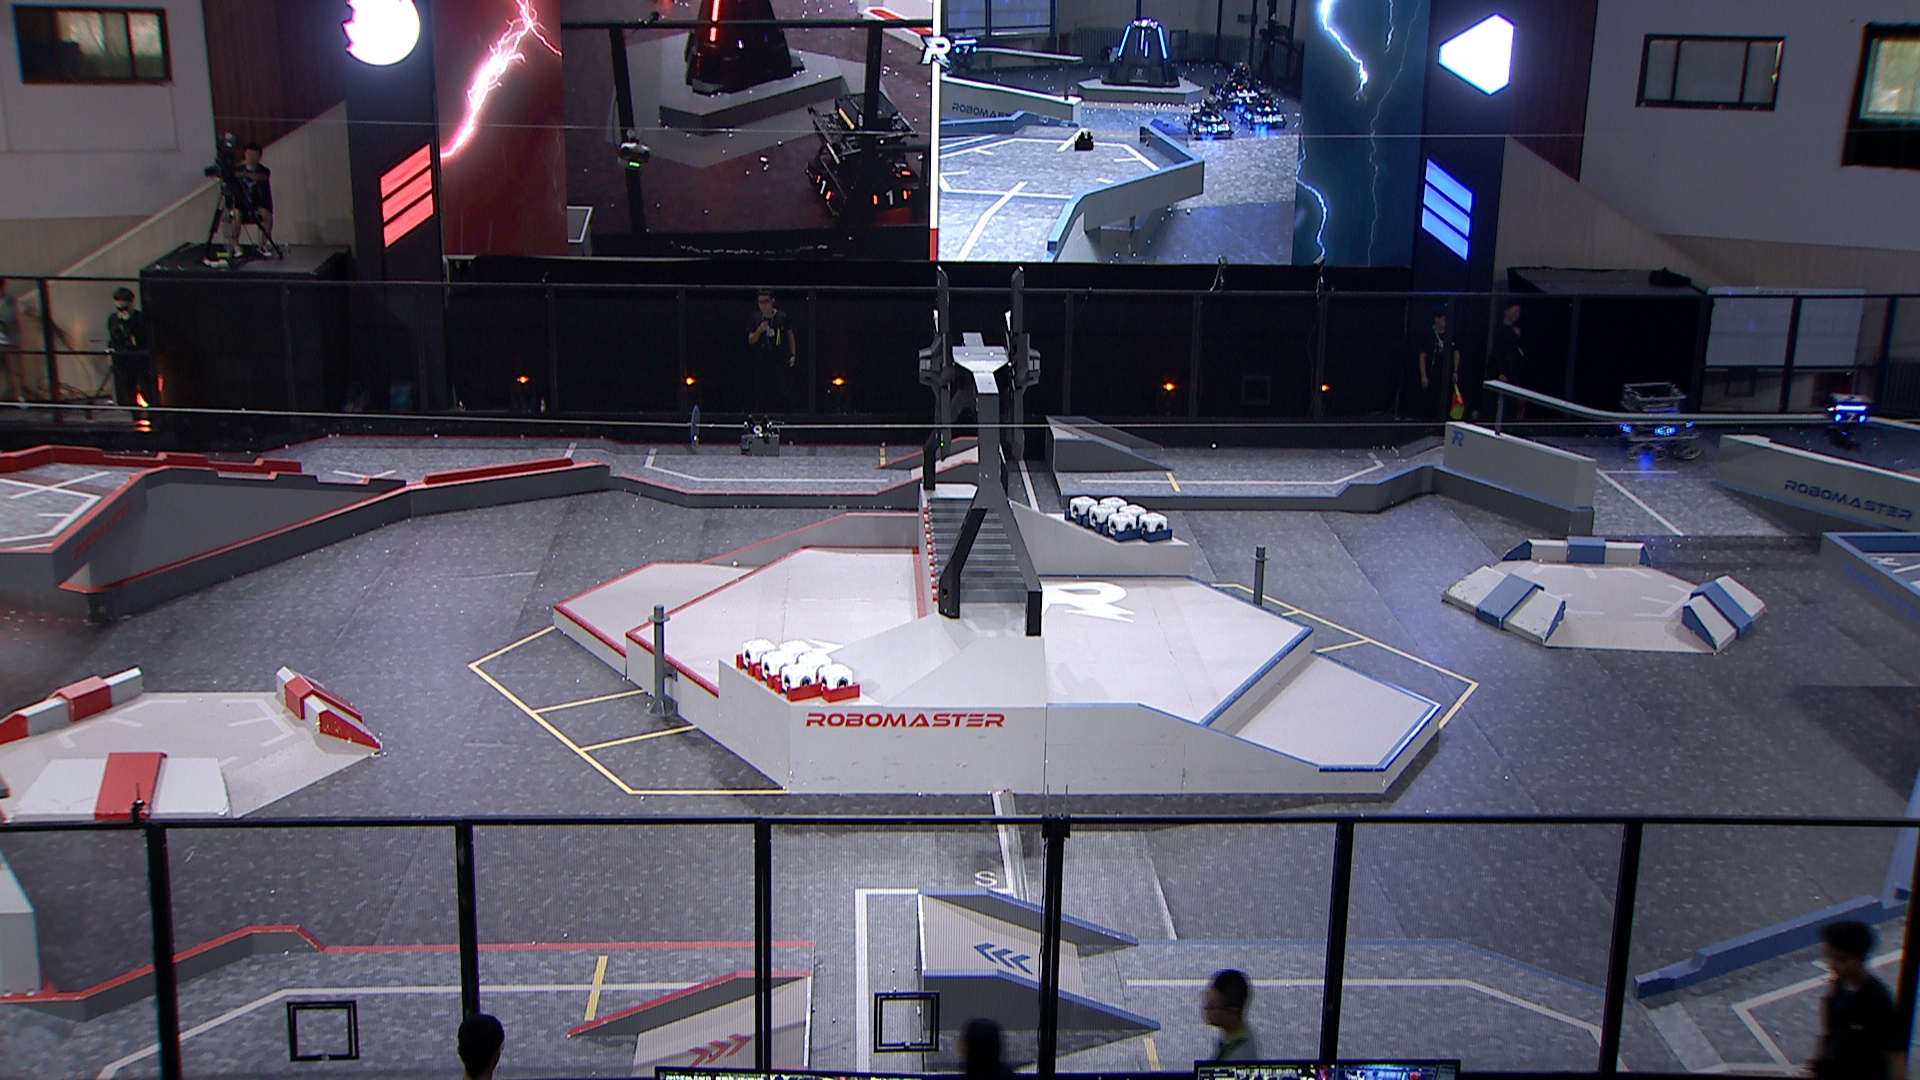armor: (1836, 410, 1866, 423), (1654, 425, 1676, 438)
car: (1617, 382, 1702, 463)
ignore: (808, 86, 924, 223), (1097, 17, 1182, 87), (1209, 59, 1273, 113), (1182, 95, 1234, 138), (1233, 90, 1287, 129), (945, 33, 982, 73)
watcher: (1826, 392, 1876, 451)
